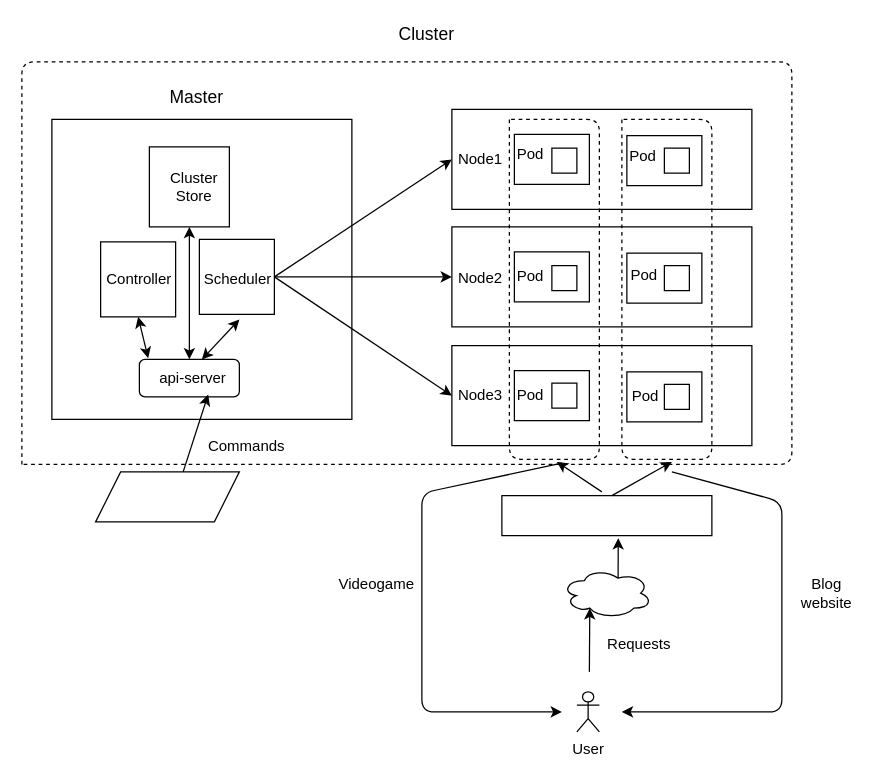
The diagram is 874 pixels wide and 779 high, and some of its shapes have lost their labels. The box of each missing label's shape, as (x1, y1, x2, y2) in pixels:
Kubectl: (94, 471, 239, 522)
Loadbalancer: (501, 494, 712, 536)
